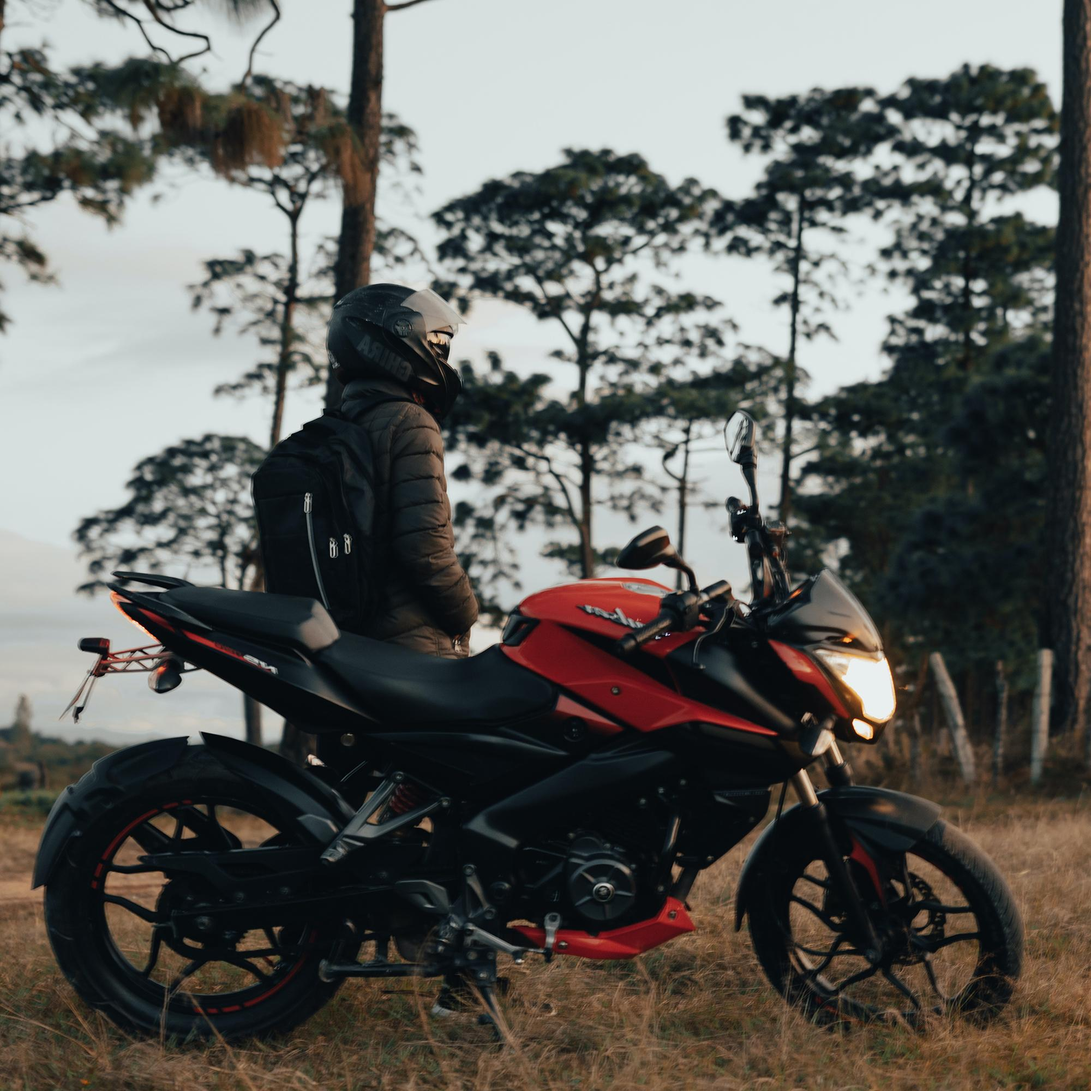helmet: (325, 282, 468, 427)
